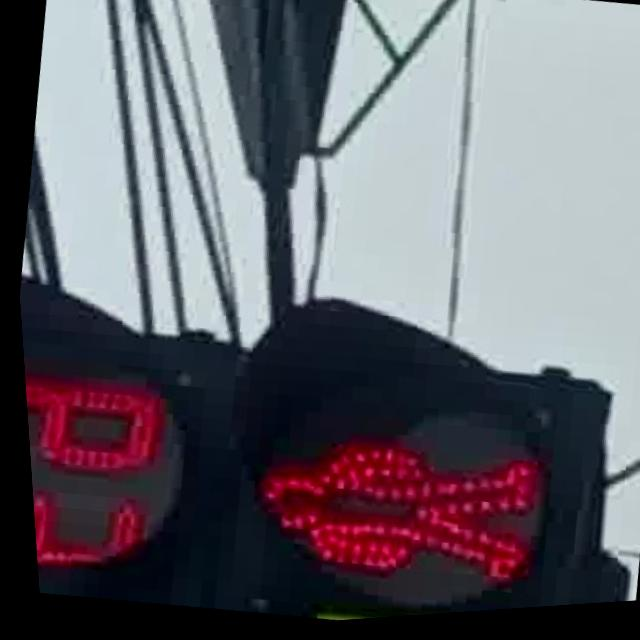red_light: (222, 392, 551, 612)
